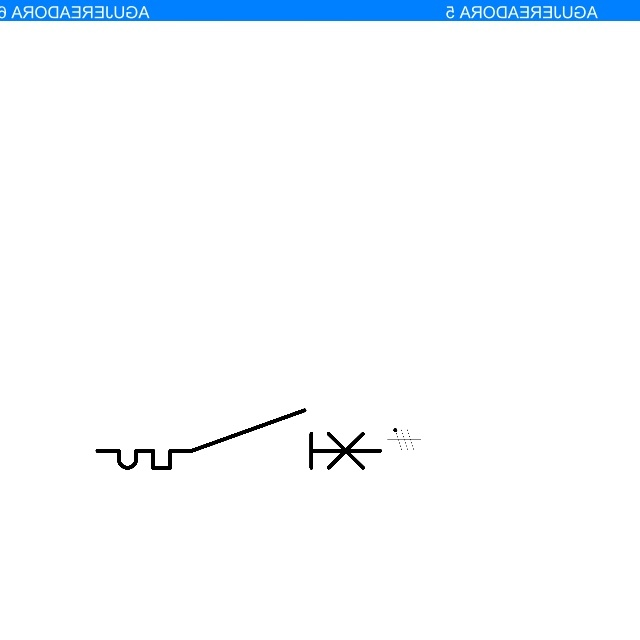interruptor_termomagnetico: (90, 403, 387, 475)
